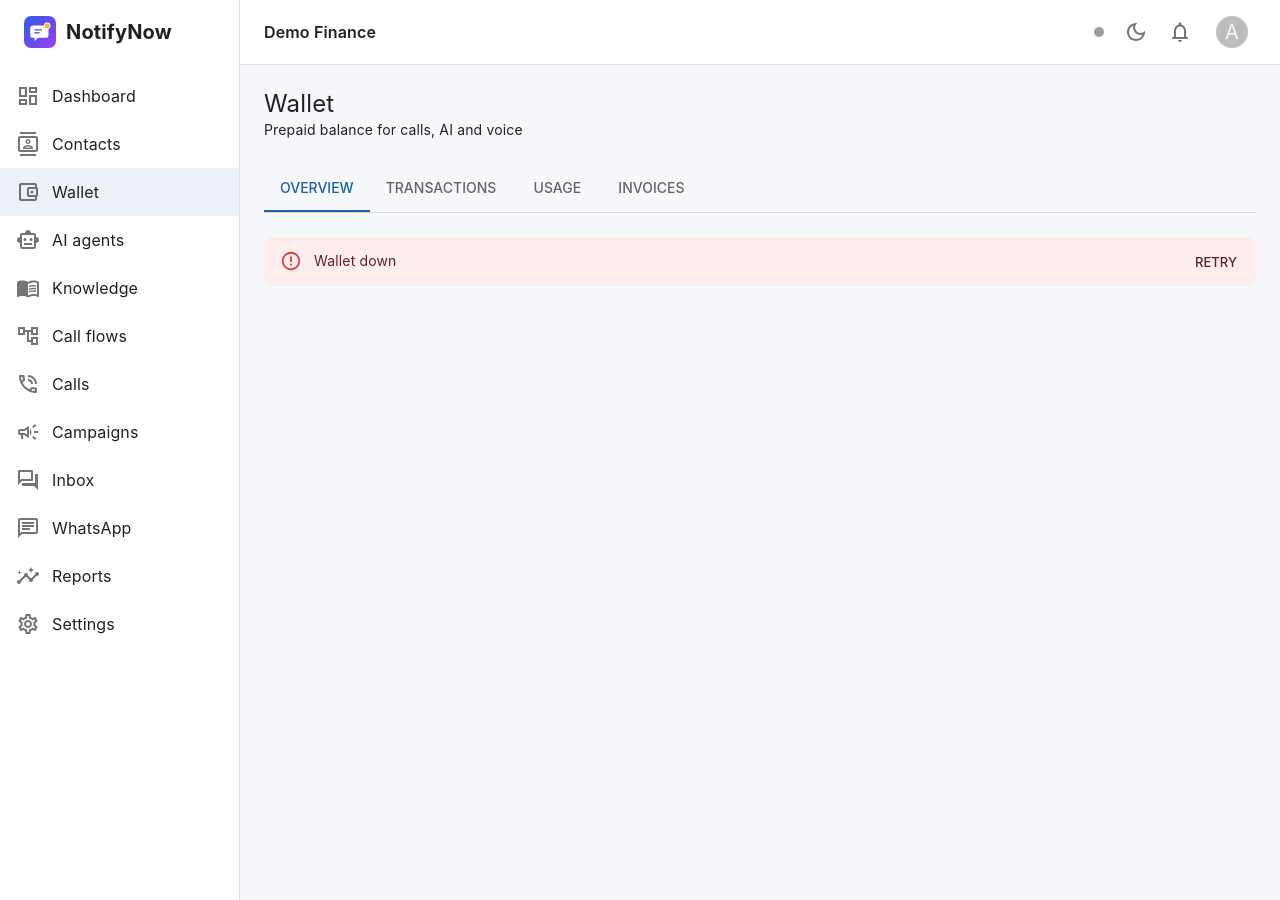
Test: wallet overview › retries after an error and shows a rates error
Expected: the text "Wallet down" is shown, [314,252,396,269]
Click the button "Retry" at (1216, 262), box [1184,247,1248,278]
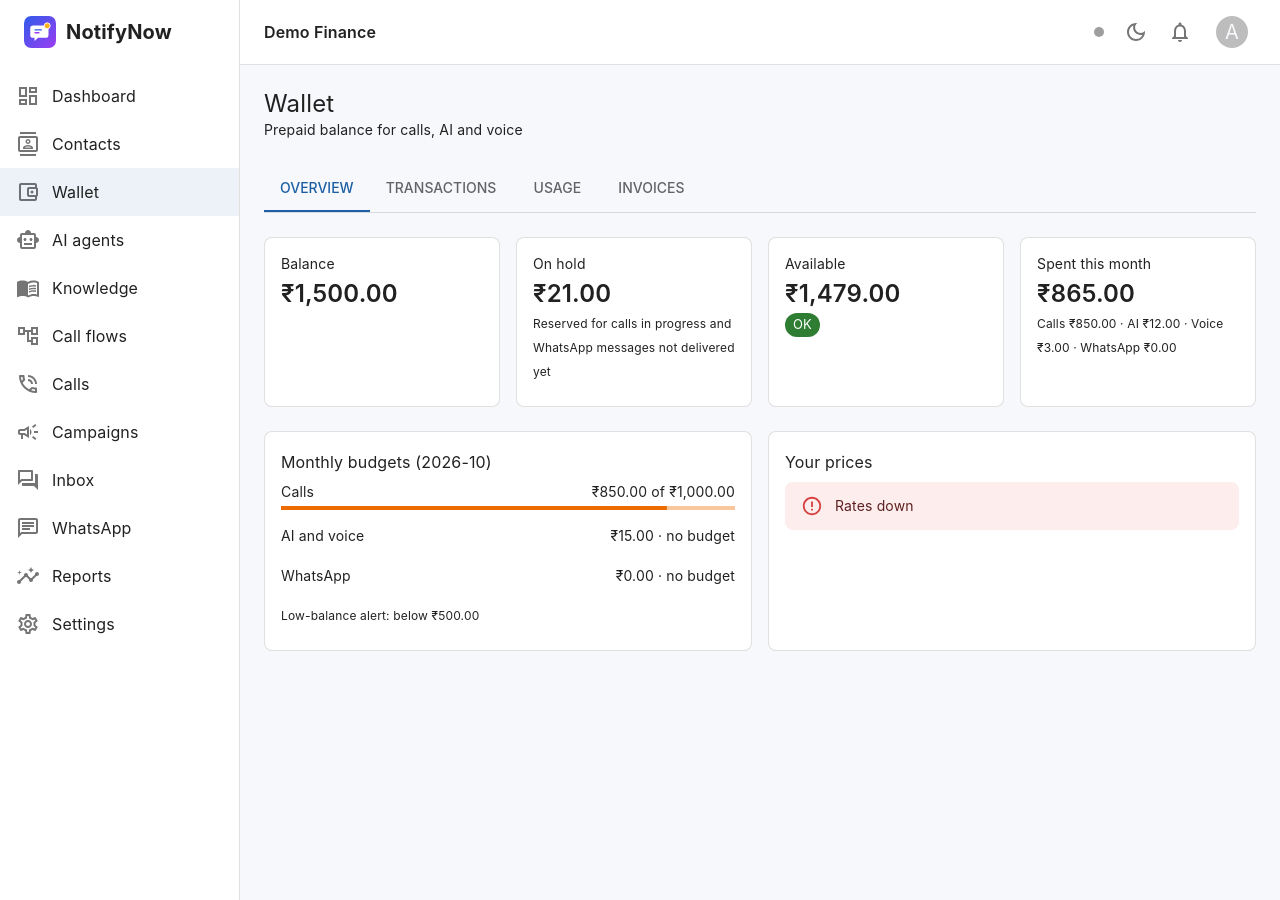
Expected: the text "Rates down" is shown, [835,497,914,514]
